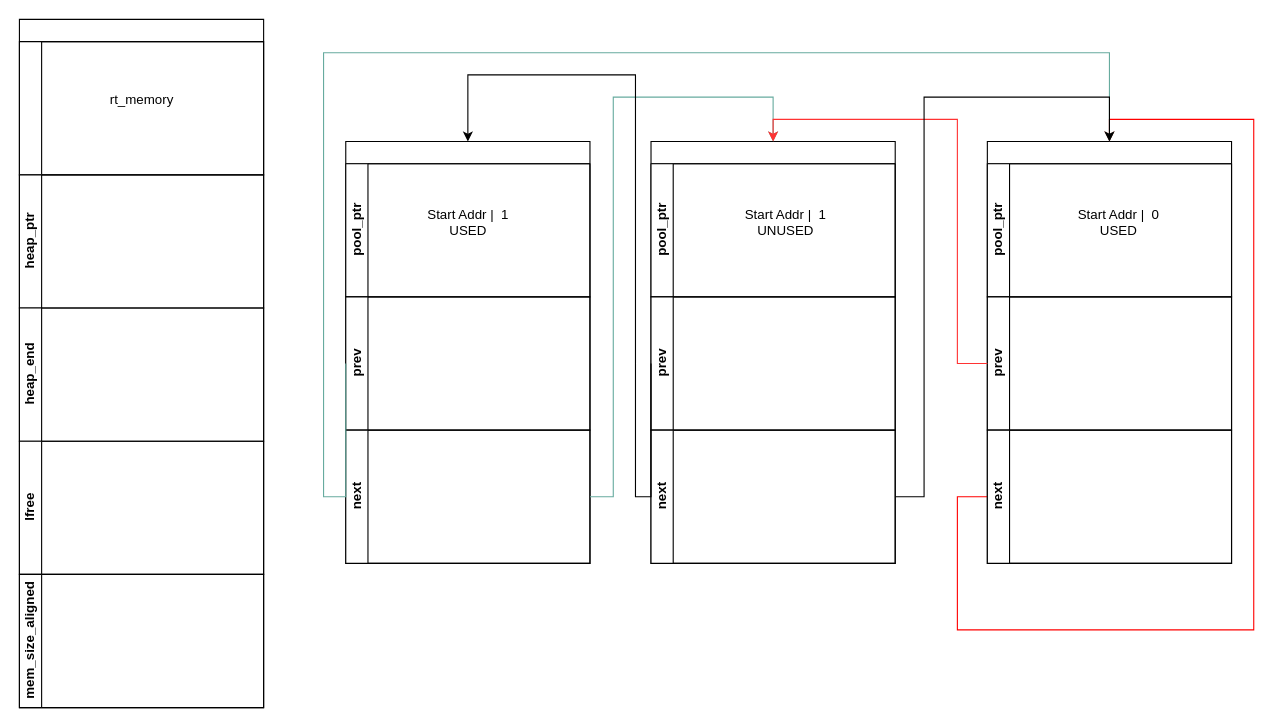
Image size: 1282x727. Some labels were removed from this diagram. Each missing label, with the box of its shape:
Allocated Obj: (650, 140, 895, 563)
Heap End Obj: (986, 140, 1232, 563)
Heap Start: (18, 18, 264, 708)
Heap Start Obj: (345, 140, 590, 563)
parent: (18, 41, 264, 175)
